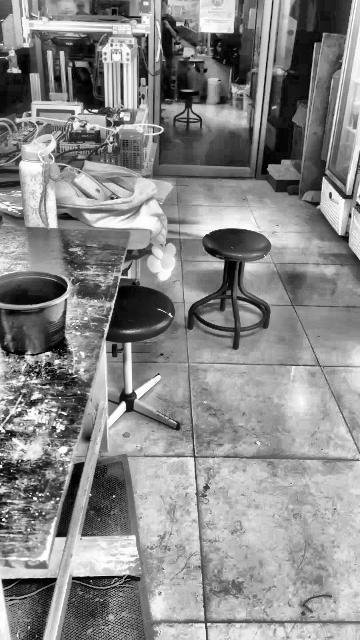pot: (0, 271, 71, 354)
